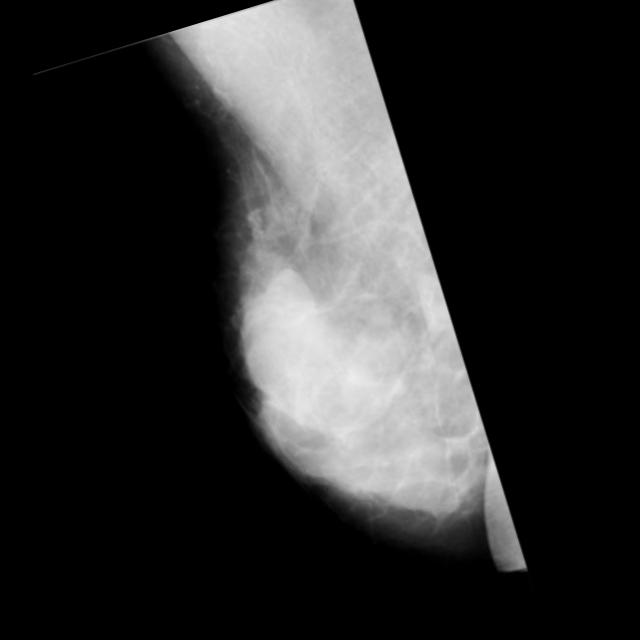CALC: (224, 202, 284, 262)
